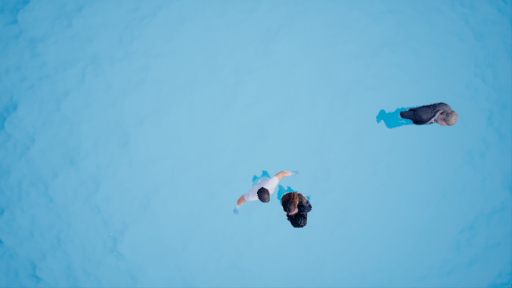person: (368, 94, 489, 149), (219, 152, 293, 205), (274, 187, 322, 227)
